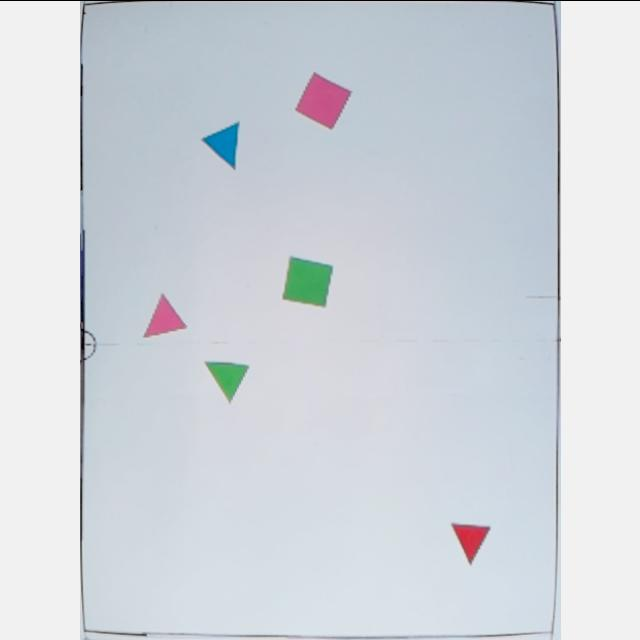blueTriangle: (199, 120, 241, 170)
greenSquare: (280, 255, 332, 307)
greenTriangle: (201, 358, 249, 404)
pinkSquare: (293, 70, 351, 130)
pinkTriangle: (139, 291, 187, 339)
redTriangle: (446, 520, 492, 566)
